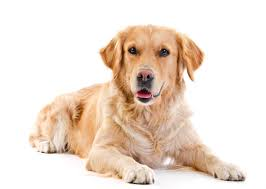Bulldog: (24, 15, 254, 185)
